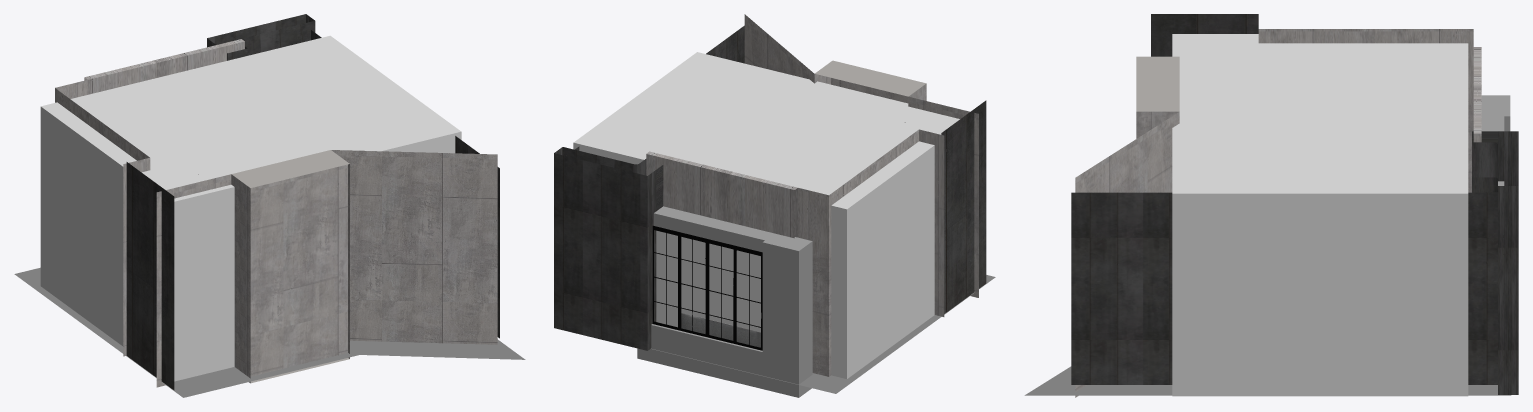
Rendered from room_living.glb.
3 views of the same model, side by side, from view 1: azimuth 30°, elevation 25°; view 2: azimuth 150°, elevation 25°; view 3: azimuth 270°, elevation 25° (orthographic). The views are drawn at different scales.
Parts seen in each view (by area): view 1: camera_bounds, WallS1, room_volume, WallW1, Floor1, WallWN1, WallN2, WallE1; view 2: camera_bounds, WallN2, room_volume, WallWN1, WallN1, WallW1, WallS1, WallN_Window1, Floor1, Sofa1, WallE1; view 3: camera_bounds, room_volume, WallE1, WallS1, WallN2, WallWN1, WallW1, Floor1, WallN1.
Part boxes in pixels (x1=…): camera_bounds: x1=40, y1=35, x2=461, y2=374; WallS1: x1=156, y1=150, x2=497, y2=387; room_volume: x1=40, y1=114, x2=461, y2=381; WallW1: x1=126, y1=162, x2=174, y2=390; Floor1: x1=14, y1=267, x2=525, y2=397; WallWN1: x1=55, y1=39, x2=244, y2=356; WallN2: x1=207, y1=14, x2=315, y2=60; WallE1: x1=311, y1=30, x2=499, y2=338; camera_bounds: x1=573, y1=52, x2=959, y2=372; WallN2: x1=554, y1=147, x2=663, y2=350; room_volume: x1=656, y1=153, x2=934, y2=378; WallWN1: x1=646, y1=129, x2=944, y2=376; WallN1: x1=637, y1=206, x2=812, y2=397; WallW1: x1=941, y1=100, x2=986, y2=313; WallS1: x1=744, y1=14, x2=978, y2=297; WallN_Window1: x1=652, y1=225, x2=762, y2=350; Floor1: x1=651, y1=275, x2=995, y2=393; Sofa1: x1=681, y1=313, x2=760, y2=347; WallE1: x1=566, y1=25, x2=744, y2=156; camera_bounds: x1=1172, y1=34, x2=1468, y2=388; room_volume: x1=1172, y1=202, x2=1468, y2=396; WallE1: x1=1071, y1=192, x2=1497, y2=384; WallS1: x1=1075, y1=56, x2=1179, y2=397; WallN2: x1=1472, y1=131, x2=1518, y2=394; WallWN1: x1=1258, y1=29, x2=1481, y2=192; WallW1: x1=1151, y1=14, x2=1258, y2=56; Floor1: x1=1024, y1=366, x2=1511, y2=395; WallN1: x1=1481, y1=95, x2=1510, y2=185.
Size of what is drawn, in the model's own units: 639 by 422 by 805.
Materials: 9 (7 with a texture image).
